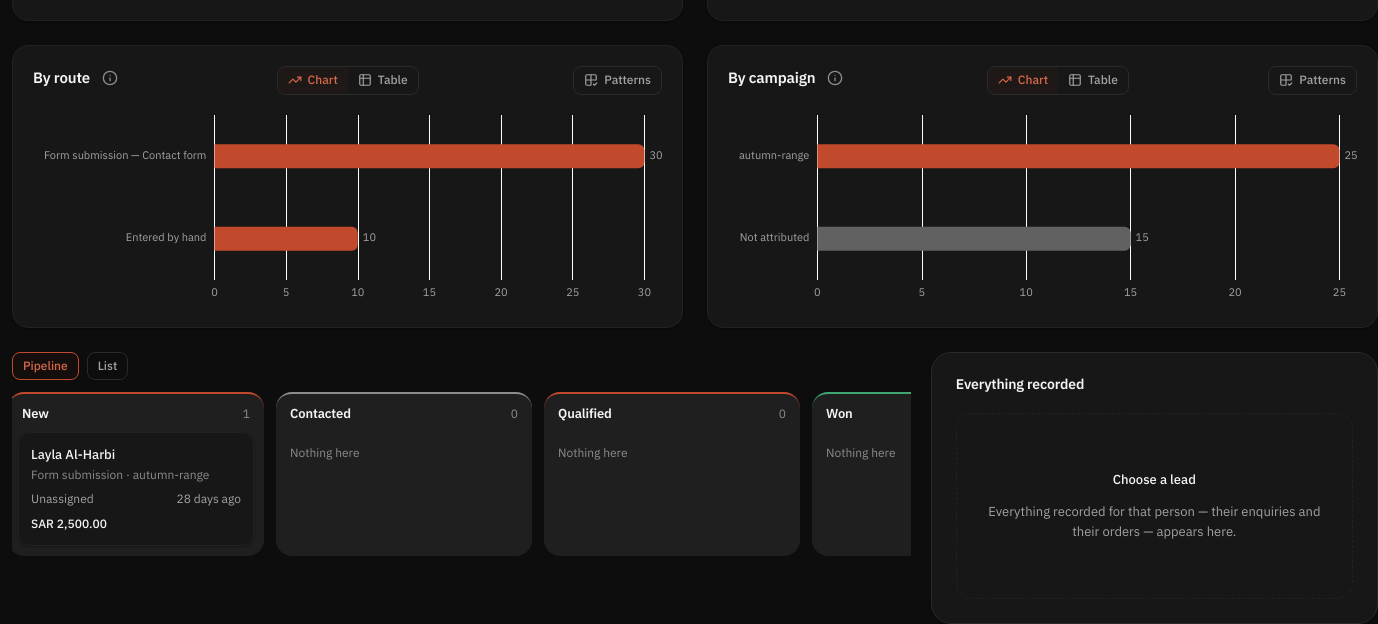
it: the Lead Center › keeps the unattributed campaign row in the breakdown
(page scrolled)
Click the button "List" at coordinates (108, 366), box [87, 352, 128, 380]
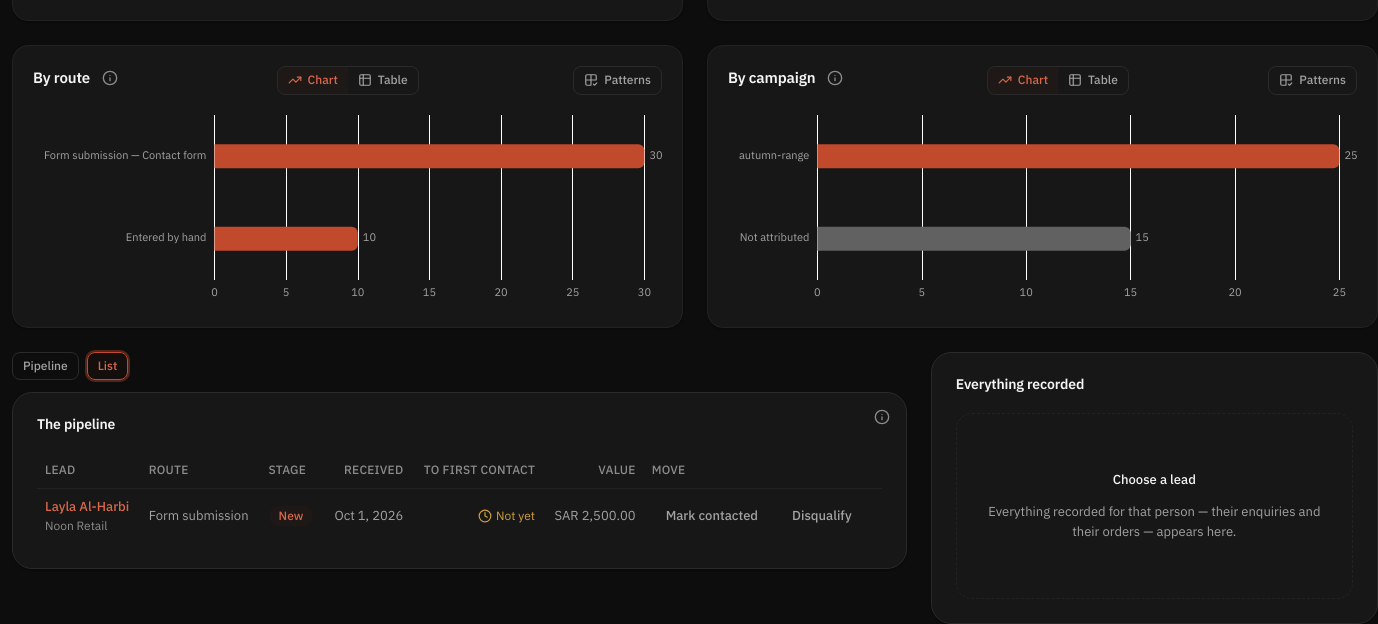
Click the button "Table" in the row of "By campaign" at coordinates (1093, 80), box [1058, 67, 1128, 94]
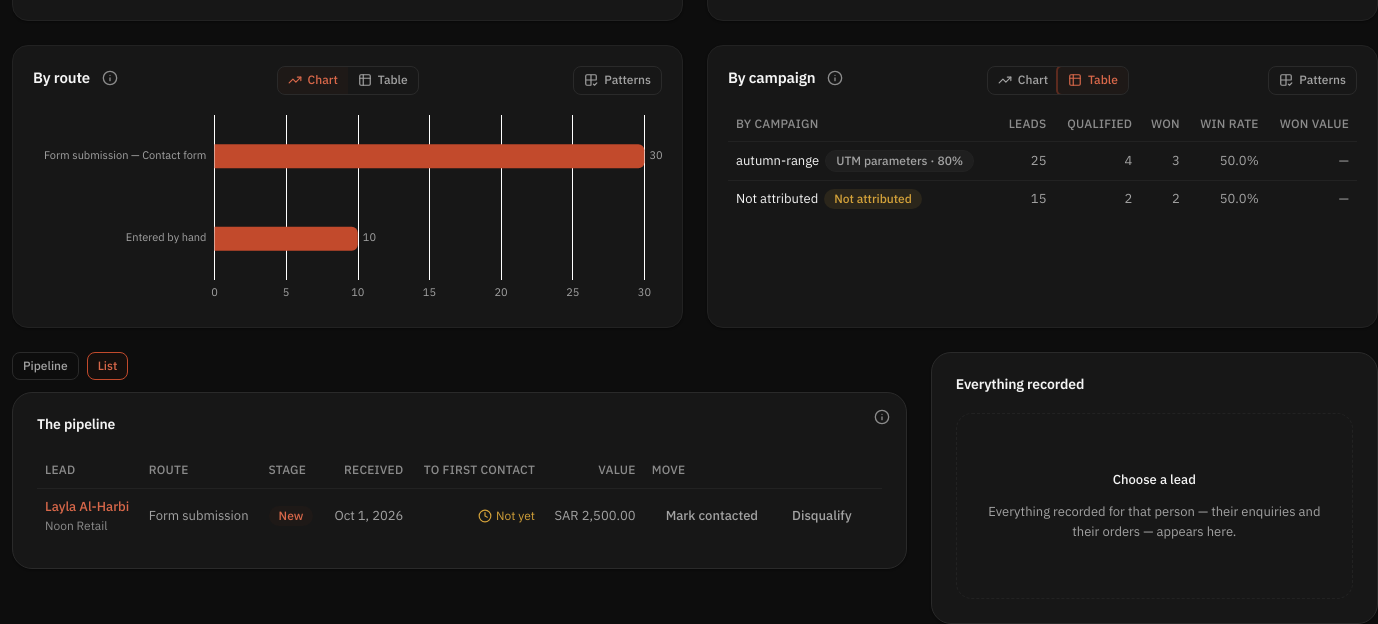
Expected: the row "Not attributed Not attributed 15 2 2 50.0% —" is shown, [728, 181, 1357, 217]
